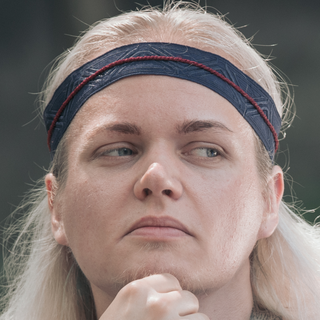eye: (179, 139, 232, 161), (93, 140, 142, 162)
